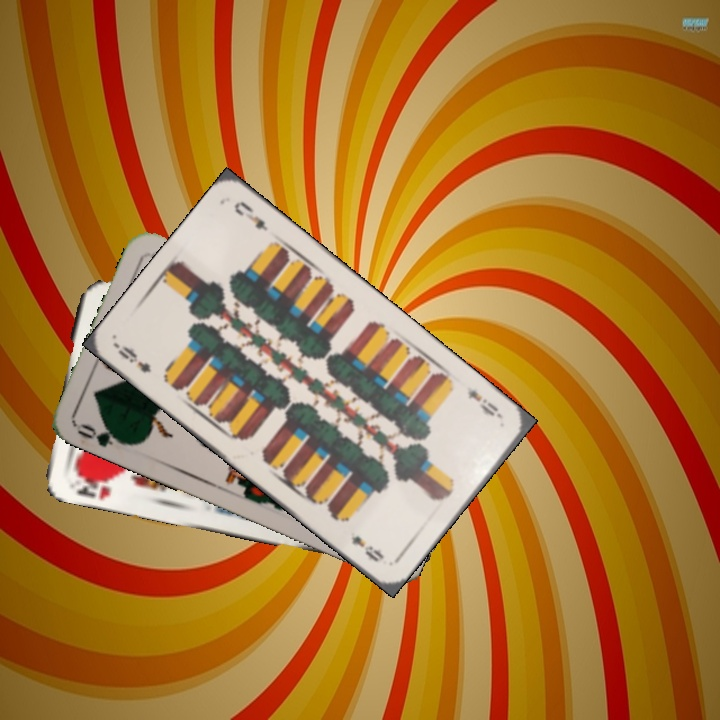E9: (462, 382, 506, 422), (113, 341, 154, 376)
GO: (73, 419, 131, 450)
HK: (72, 468, 117, 502)
